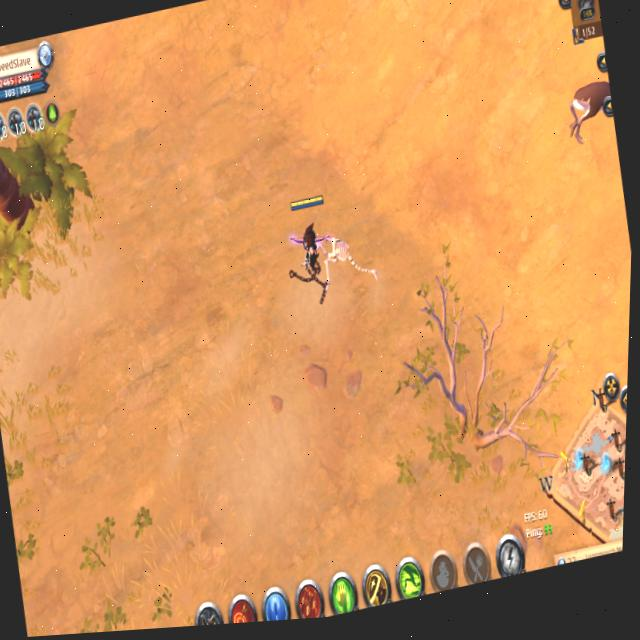ore: (553, 66, 620, 157)
red: (280, 188, 341, 298)
